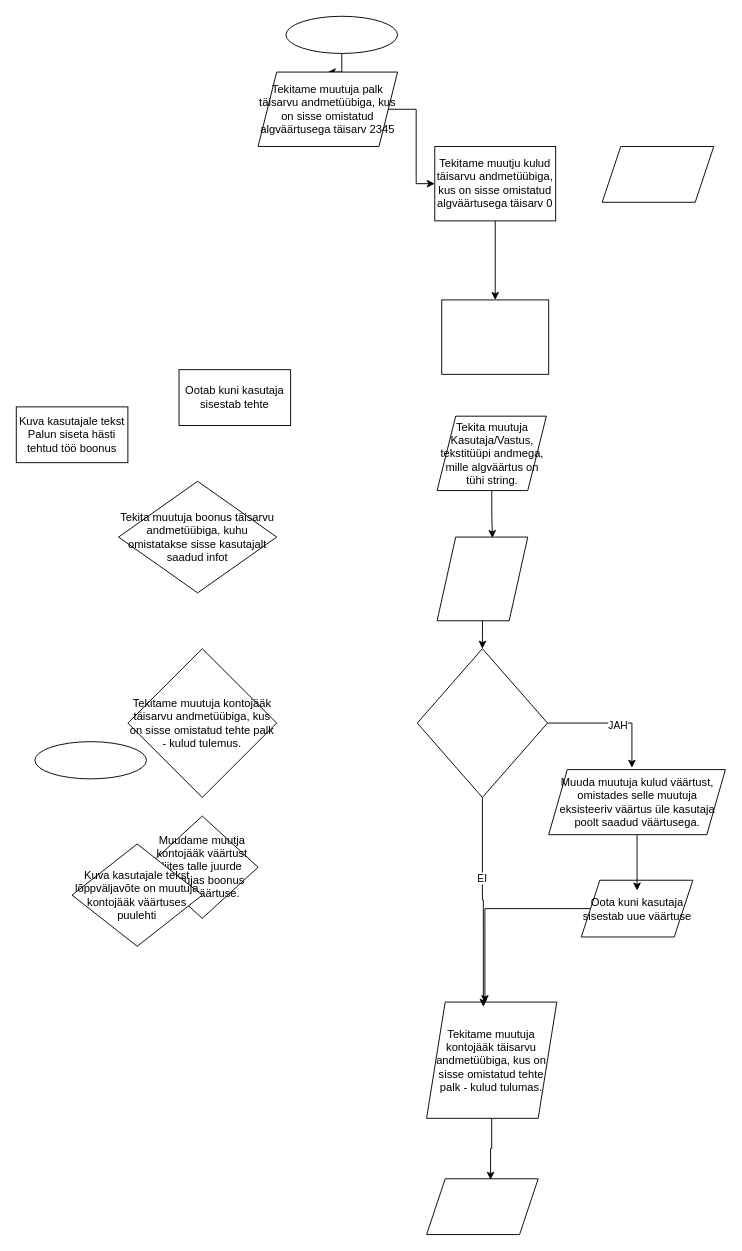
The diagram is 742 pixels wide and 1251 high, and some of its shapes have lost their labels. Here are the shapes that lost their labels. From the top down, the centre of each, then its label:
(341,34): Algus
(495,336): Kuva kasutaja tekst kas see kuu väljaminekuid/kulusid on? jah/ei
(482,578): Oota kuni kasutaja vastab ja muutujasse tekib midagi muud kui tühi string.
(481,722): Kas kasutja sisestatud väärtus muutjuasse kasutajaVastus on jah?
(90,760): Lõpp
(482,1206): Kuva kasutaja muutuja kontojääk väärtus koos teksitiga puuleht on alles
